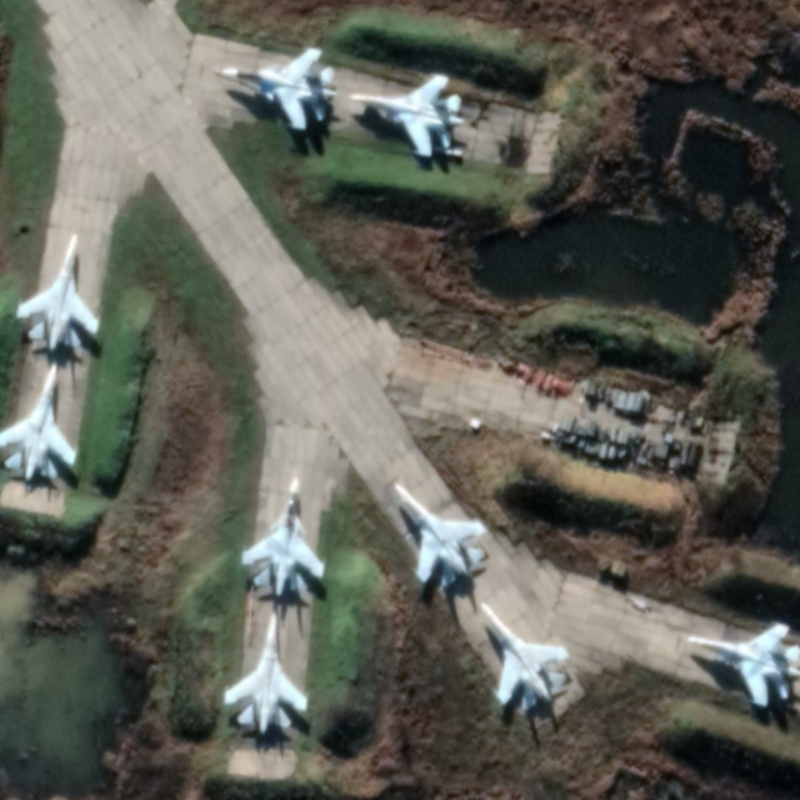A1: (220, 609, 310, 737), (390, 481, 490, 593), (13, 231, 102, 353), (685, 617, 800, 710), (347, 72, 467, 160), (478, 600, 570, 712), (1, 358, 79, 481)
A19: (214, 45, 339, 133), (239, 475, 327, 599)
